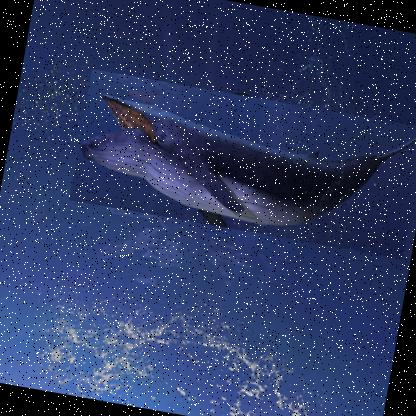blue_whale: (67, 67, 415, 259)
